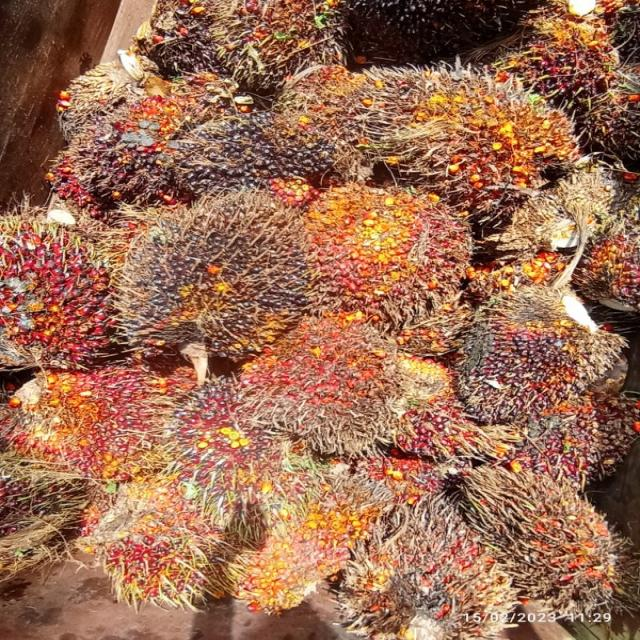fraksi 00: (110, 177, 332, 367), (166, 90, 364, 210)
fraksi 1: (457, 272, 630, 446), (166, 370, 299, 500)
fraksi 3: (314, 38, 622, 228), (286, 158, 486, 338), (0, 339, 197, 494), (0, 205, 135, 378), (211, 488, 403, 609)
fraksi 4: (345, 477, 522, 640), (478, 448, 640, 626), (232, 292, 414, 446)
